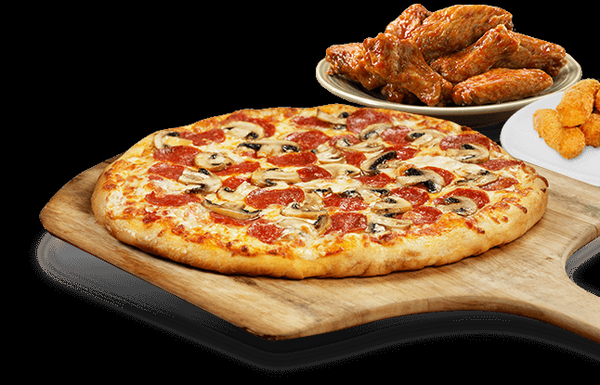sandwich: (90, 103, 555, 279)
